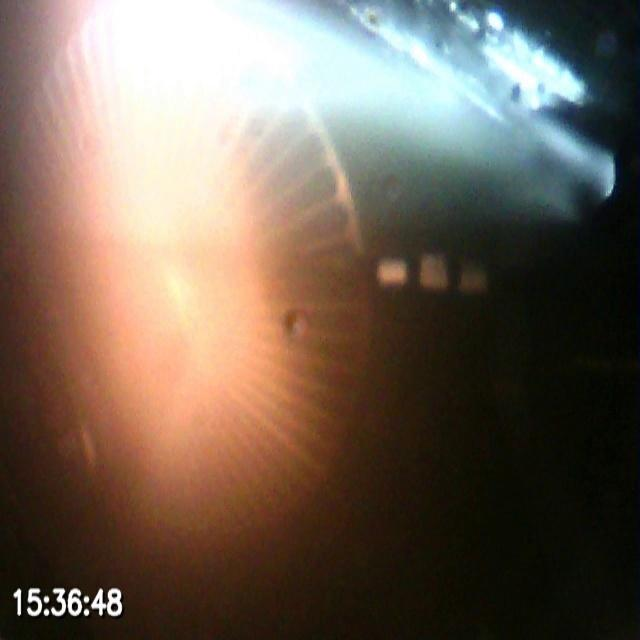white-dots: (374, 254, 490, 298)
